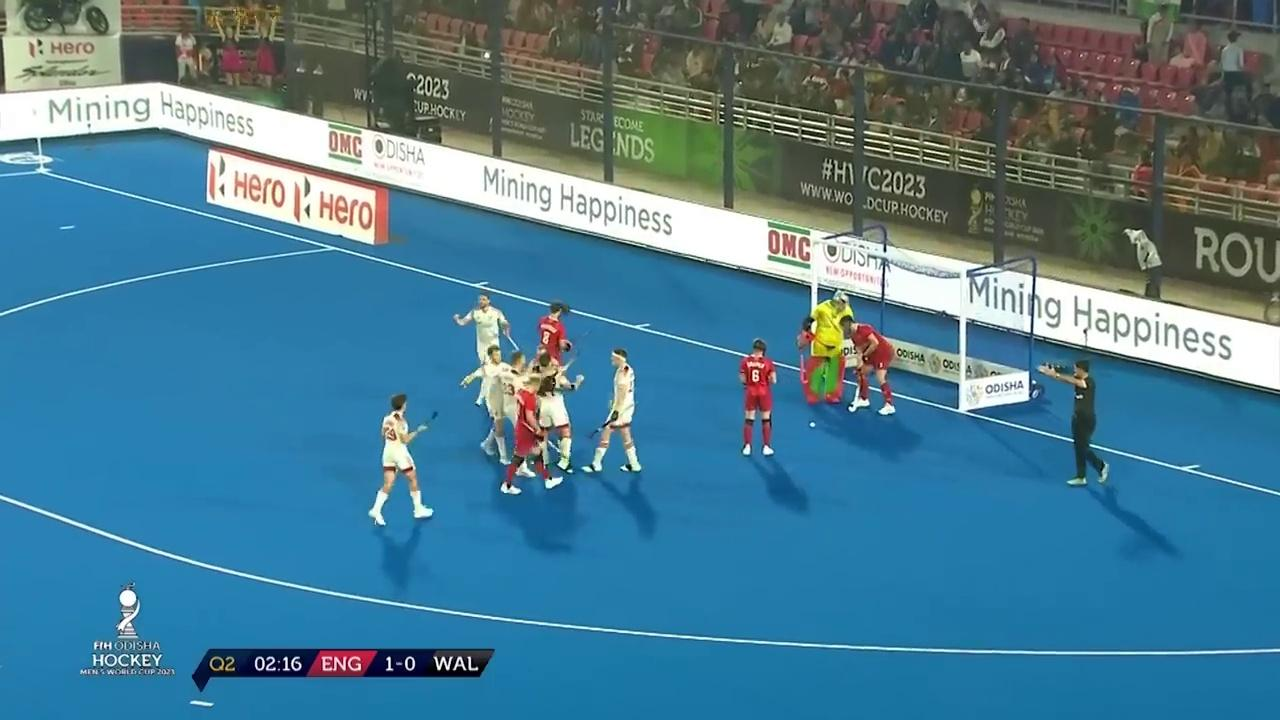ball: (805, 416, 825, 434)
